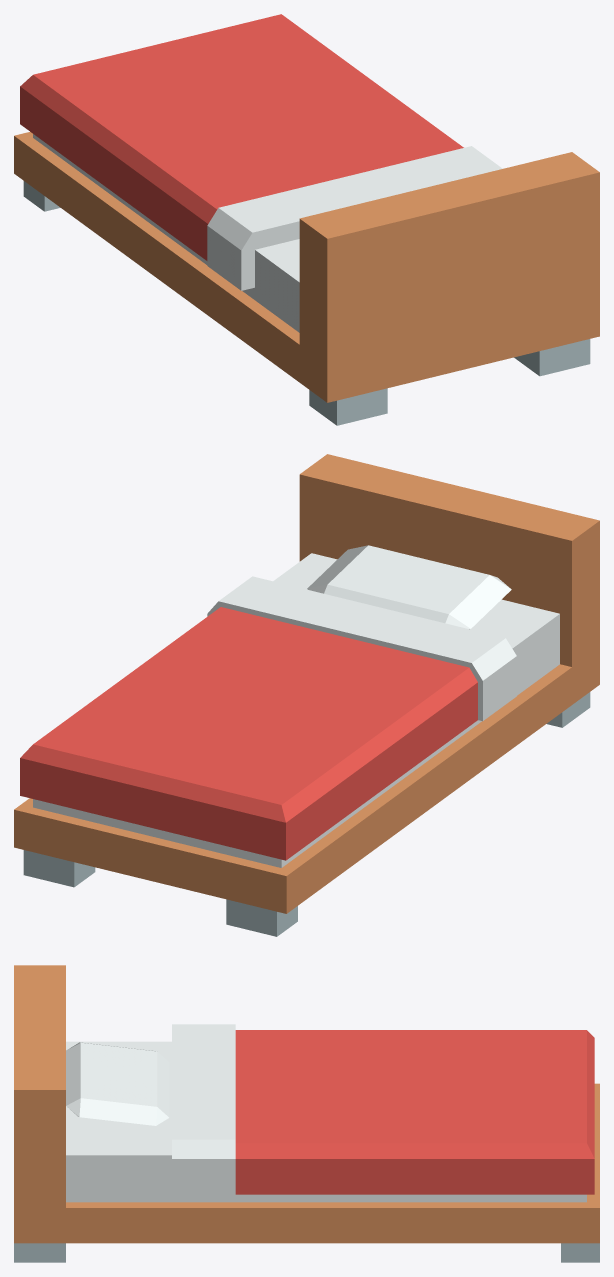
Rendered from bedSingle.glb.
3 renders of one model, top to bottom at view 1: azimuth 30°, elevation 25°; view 2: azimuth 150°, elevation 25°; view 3: azimuth 270°, elevation 25°, orthographic. The views are drawn at different scales.
Visible parts, largest first — view 1: bedSingle; view 2: bedSingle; view 3: bedSingle.
Part boxes in pixels (left/top/right/bottom): bedSingle: left=14, top=14, right=599, bottom=425; bedSingle: left=14, top=454, right=599, bottom=936; bedSingle: left=14, top=965, right=599, bottom=1262.
Size of the model in its own units: 1.24 by 0.8134 by 2.44.
